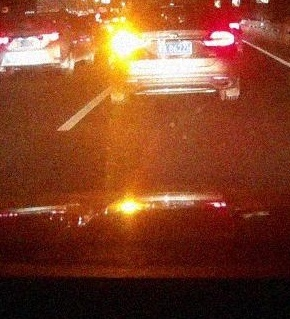L_light: (114, 32, 145, 50)
R_light: (202, 31, 235, 47)
T_light: (163, 7, 183, 13)
night-left: (111, 5, 240, 103)
